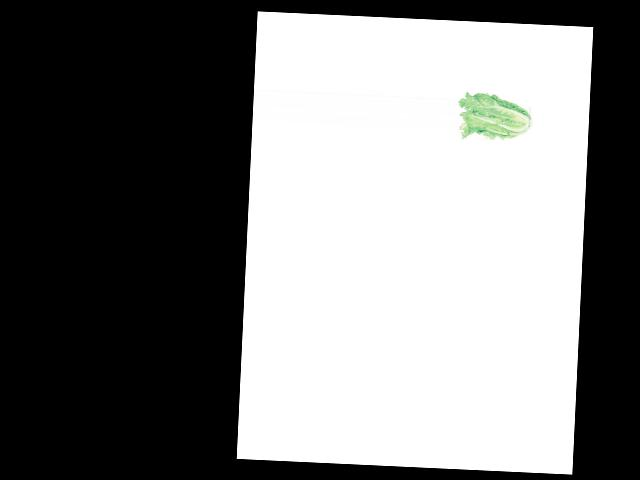lettuce: (456, 91, 531, 143)
